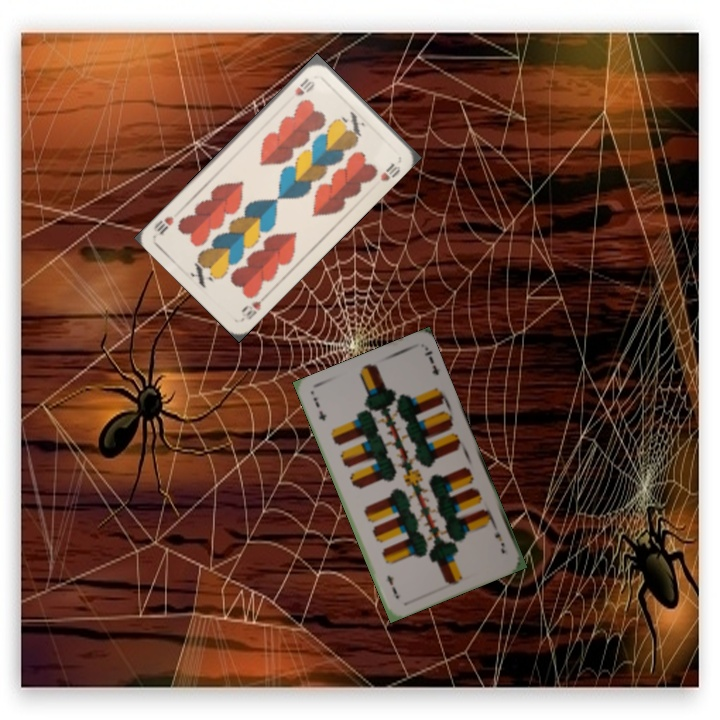E7: (488, 519, 508, 556), (309, 393, 329, 423)
H10: (237, 297, 264, 322), (291, 74, 317, 98)
